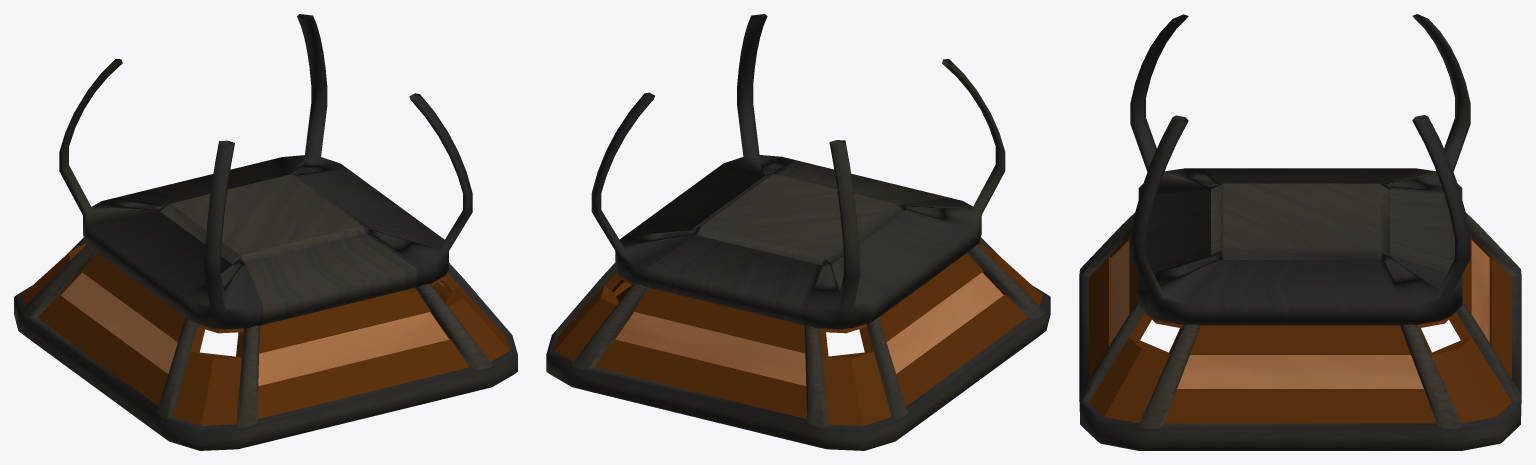
The model's file is OS_Angle_Hover_Cover.obj.
3 renders of one model, left to right at view 1: azimuth 30°, elevation 25°; view 2: azimuth 150°, elevation 25°; view 3: azimuth 270°, elevation 25°, orthographic. The views are drawn at different scales.
Parts seen in each view (by area): view 1: Cylinder.001_Cylinder.002; view 2: Cylinder.001_Cylinder.002; view 3: Cylinder.001_Cylinder.002.
Boxes of the visible parts, box(x1,y1,x2,y2) form: Cylinder.001_Cylinder.002: box(14, 14, 517, 450); Cylinder.001_Cylinder.002: box(546, 14, 1050, 450); Cylinder.001_Cylinder.002: box(1079, 14, 1521, 450).
Bounding box in the file's own units: 1.97 × 1.44 × 1.98.
